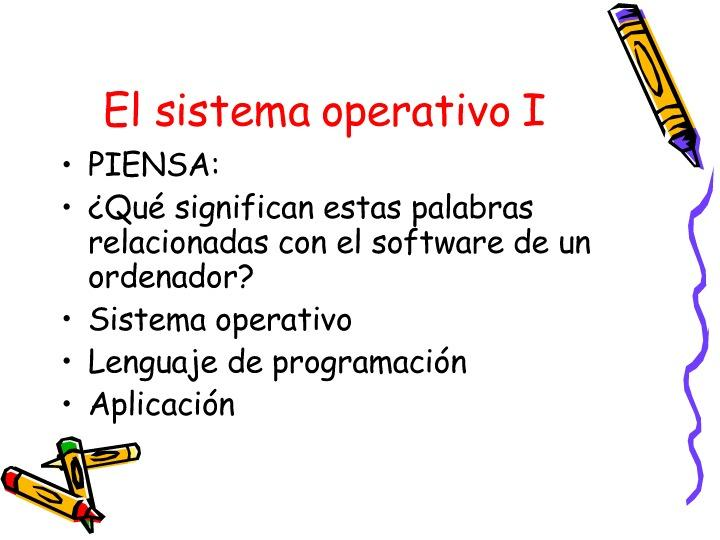paragraph: (80, 148, 624, 419)
title: (98, 85, 554, 137)
